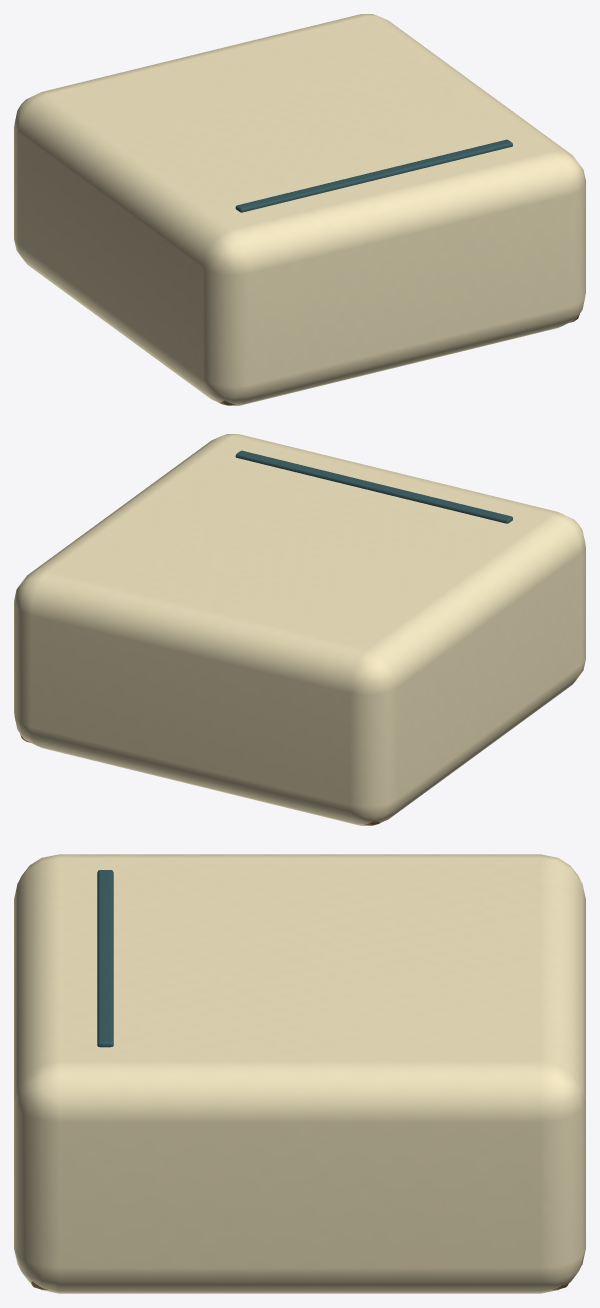
File: letter_tile.glb
The picture shows the model from 3 angles, top to bottom: view 1: azimuth 30°, elevation 25°; view 2: azimuth 150°, elevation 25°; view 3: azimuth 270°, elevation 25°; orthographic projection. The views are drawn at different scales.
Parts seen in each view (by area): view 1: RoundedCarrierBody.001, ReadingEdge.001; view 2: RoundedCarrierBody.001, ReadingEdge.001; view 3: RoundedCarrierBody.001, ReadingEdge.001.
Part boxes in pixels (bbox=[...]): RoundedCarrierBody.001: bbox=[14, 14, 585, 405]; ReadingEdge.001: bbox=[235, 139, 512, 212]; RoundedCarrierBody.001: bbox=[14, 434, 585, 825]; ReadingEdge.001: bbox=[235, 450, 512, 523]; RoundedCarrierBody.001: bbox=[14, 854, 585, 1293]; ReadingEdge.001: bbox=[97, 870, 113, 1047].
Size of the model in its own units: 0.82 by 0.367 by 0.82.
Materials: 1 (1 with a texture image).
